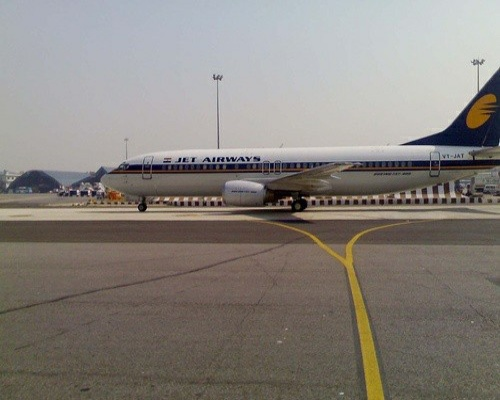plane: (93, 67, 500, 215)
